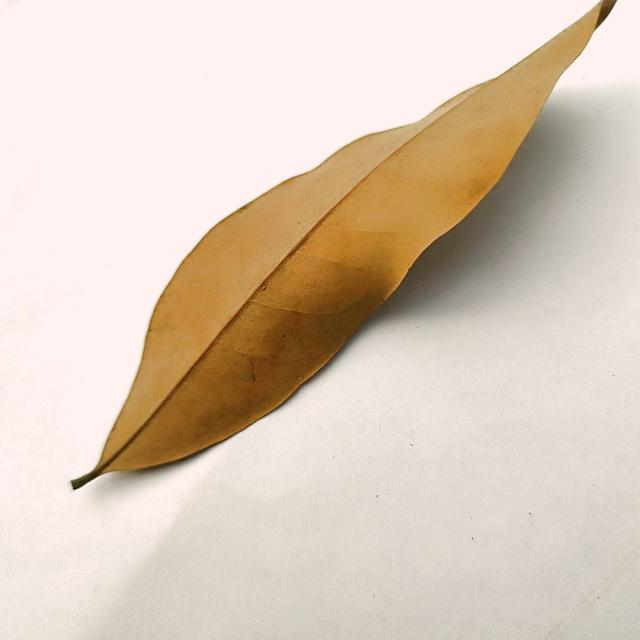Dry_Leaf-Lychee: (72, 0, 620, 488)
